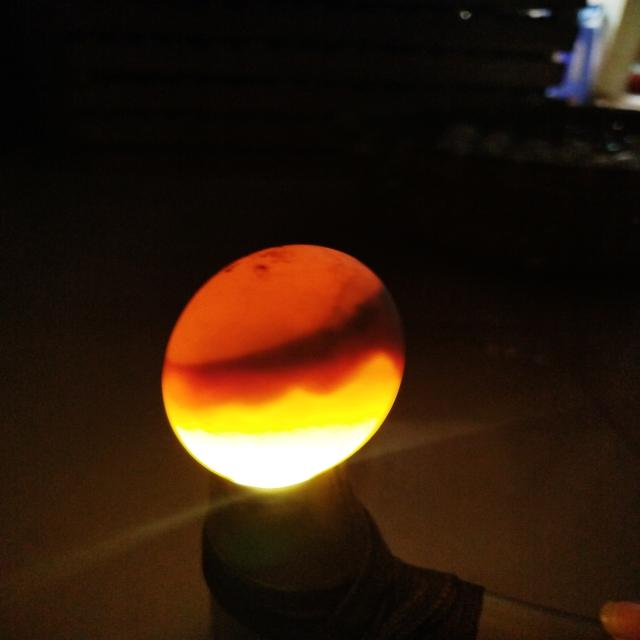Area Infectada: (198, 285, 405, 372)
